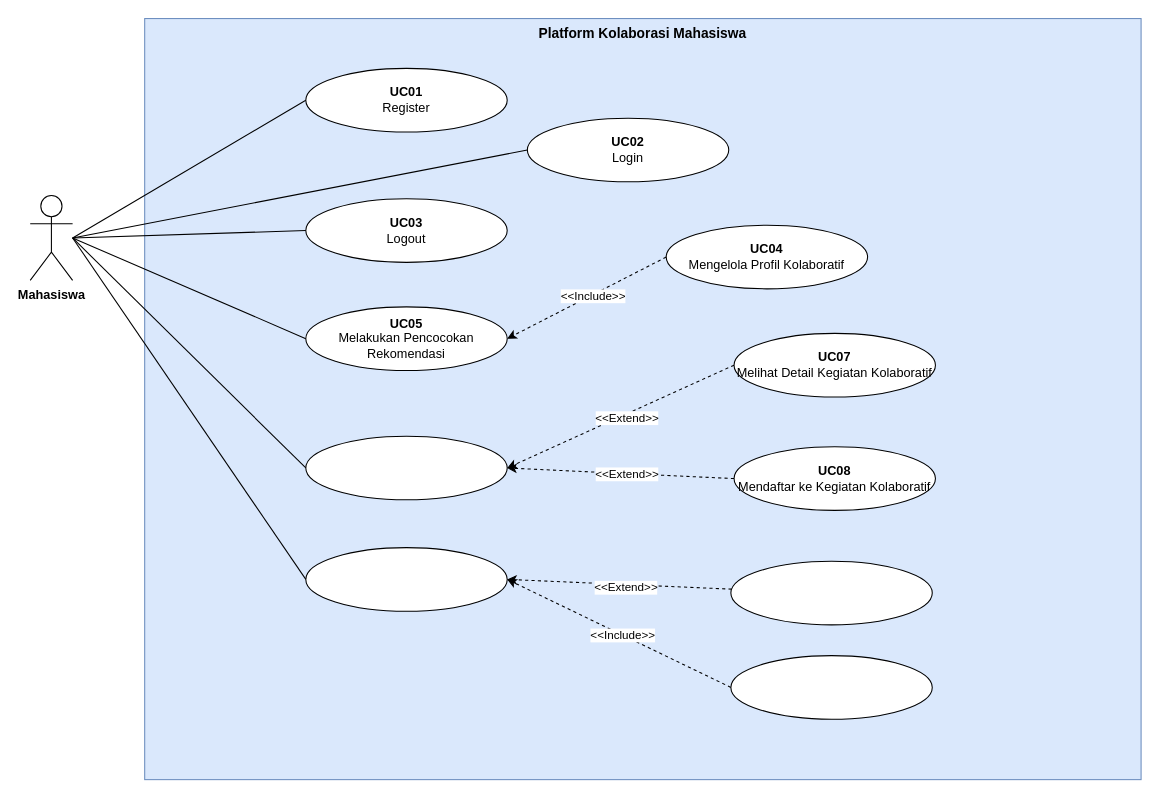
Some shapes in this 1160 by 798 pixel diagram are drawn without their labels. Each missing label, with the box of its shape:
UC06 Melihat Feed Rekomendasi Kegiatan: (305, 435, 507, 500)
UC09 Membuat Kegiatan Kolaboratif: (305, 547, 507, 611)
UC10 Melihat List Pendaftar: (730, 560, 932, 625)
UC11 Memproses Pendaftaran: (730, 655, 932, 719)
